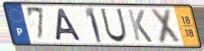1: (84, 6, 104, 45)
7: (25, 6, 47, 44)
A: (54, 8, 84, 43)
K: (126, 8, 154, 44)
U: (99, 7, 129, 44)
X: (149, 7, 183, 46)
